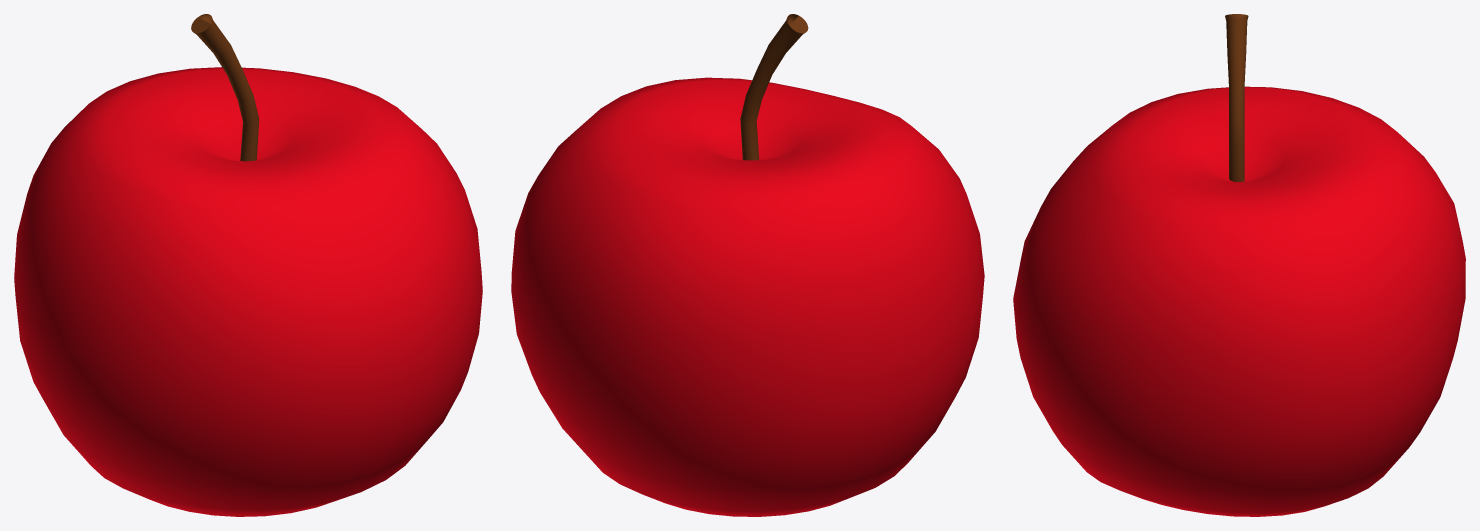
File: apple.fbx
3 renders of one model, left to right at view 1: azimuth 30°, elevation 25°; view 2: azimuth 150°, elevation 25°; view 3: azimuth 270°, elevation 25°, orthographic. The views are drawn at different scales.
Visible parts, largest first — view 1: #apple; view 2: #apple; view 3: #apple.
Part boxes in pixels (bbox=[...]): #apple: bbox=[14, 14, 482, 516]; #apple: bbox=[511, 14, 984, 516]; #apple: bbox=[1013, 14, 1465, 516].
Bounding box in the file's own units: 202 × 217 × 201.
